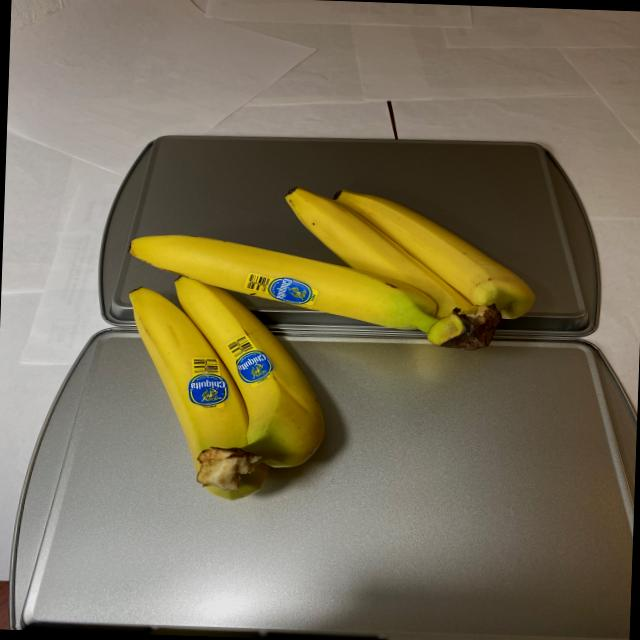banana: (116, 178, 542, 510)
